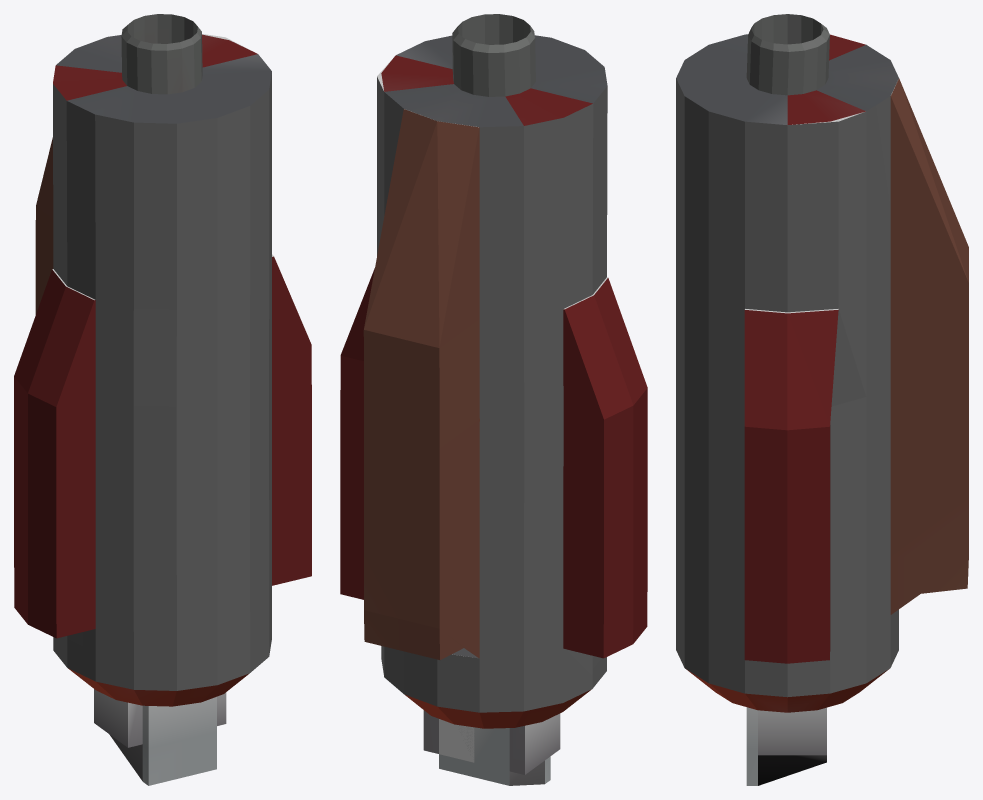
The model's file is Bash.dae.
3 views of the same model, side by side, from view 1: azimuth 30°, elevation 25°; view 2: azimuth 150°, elevation 25°; view 3: azimuth 270°, elevation 25° (orthographic). The views are drawn at different scales.
Parts seen in each view (by area): view 1: Cube; view 2: Cube; view 3: Cube.
Boxes of the visible parts, x1,y1,x2,y2 form: Cube: [14, 14, 311, 785]; Cube: [340, 14, 647, 785]; Cube: [676, 14, 968, 785].
Size of the model in its own units: 6.89 by 6.41 by 17.87.
